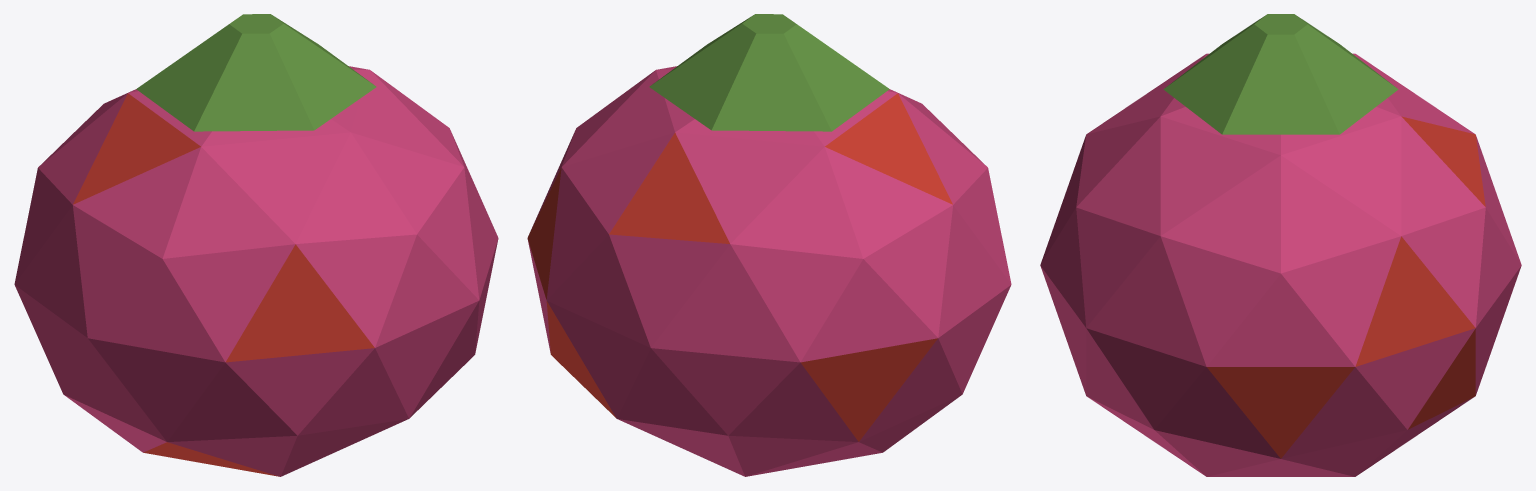
The model's file is CactusFruit.fbx.
The picture shows the model from 3 angles, left to right: view 1: azimuth 30°, elevation 25°; view 2: azimuth 150°, elevation 25°; view 3: azimuth 270°, elevation 25°; orthographic projection.
Parts seen in each view (by area): view 1: CactusFruit; view 2: CactusFruit; view 3: CactusFruit.
Part boxes in pixels (x1,y1,x2,y2): CactusFruit: (14,14,498,476); CactusFruit: (527,14,1011,476); CactusFruit: (1040,14,1521,476).
Size of the model in its own units: 1 by 1 by 1.
